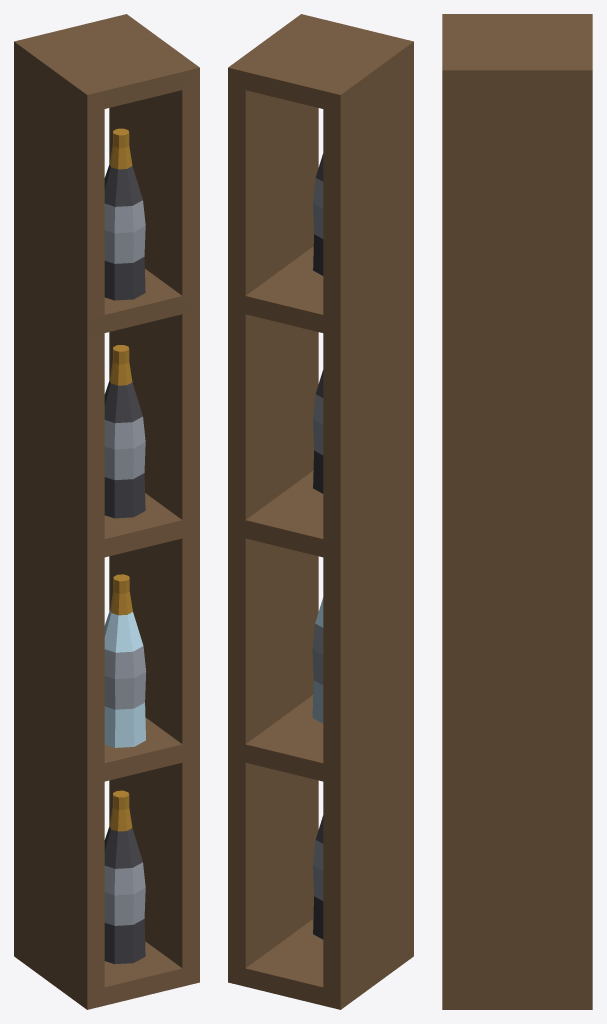
File: Accesories_Wineshelf_C.glb
3 renders of one model, left to right at view 1: azimuth 30°, elevation 25°; view 2: azimuth 150°, elevation 25°; view 3: azimuth 270°, elevation 25°, orthographic. The views are drawn at different scales.
Visible parts, largest first — view 1: Accesories_Wineshelf_C; view 2: Accesories_Wineshelf_C; view 3: Accesories_Wineshelf_C.
Boxes of the visible parts, box(x1,y1,x2,y2) form: Accesories_Wineshelf_C: box(14, 14, 199, 1009); Accesories_Wineshelf_C: box(228, 14, 413, 1009); Accesories_Wineshelf_C: box(442, 14, 592, 1009).
Size of the model in its own units: 0.2009 by 1.56 by 0.2262.
Materials: 1 (1 with a texture image).
